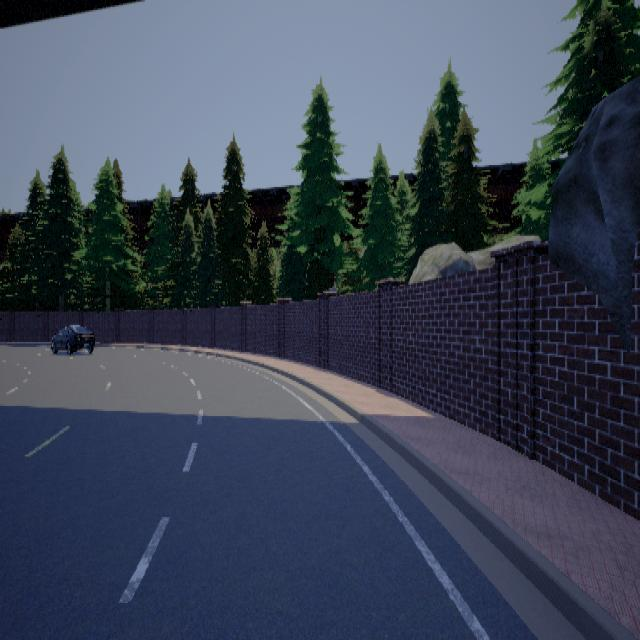vehicle: (50, 325, 94, 354)
